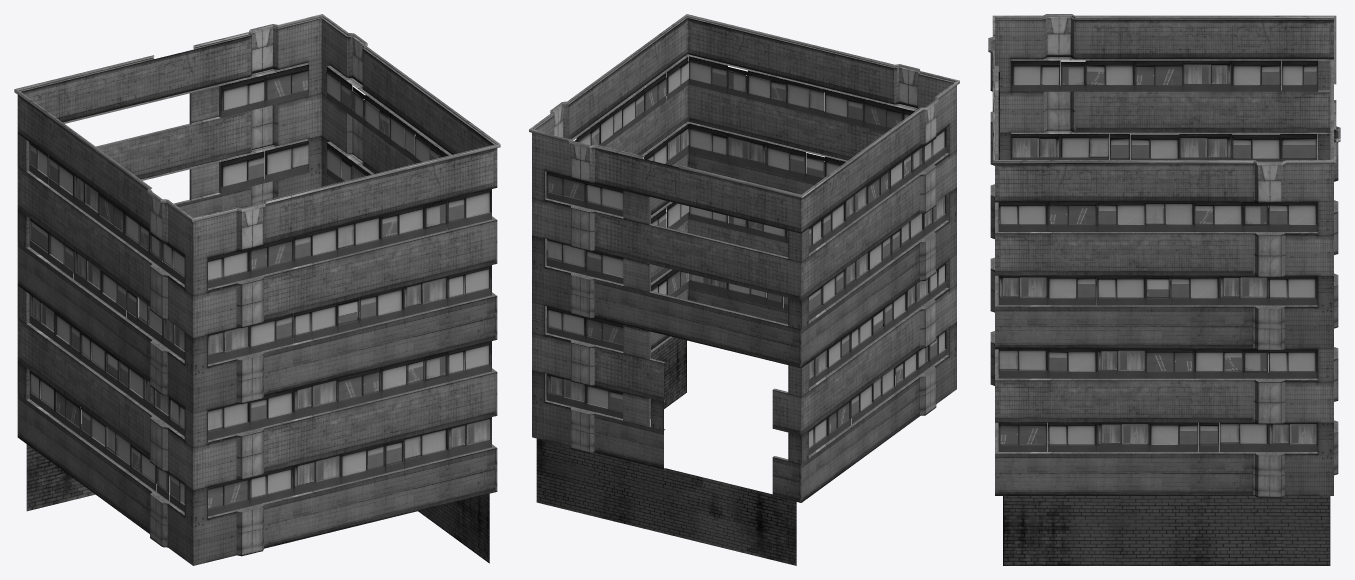
The model's file is alley_building_1.fbx.
3 views of the same model, side by side, from view 1: azimuth 30°, elevation 25°; view 2: azimuth 150°, elevation 25°; view 3: azimuth 270°, elevation 25° (orthographic). The views are drawn at different scales.
Visible parts, largest first — view 1: alley_building_1; view 2: alley_building_1; view 3: alley_building_1.
Part boxes in pixels (box(x1,y1,x2,y2)): alley_building_1: box(14, 14, 500, 565); alley_building_1: box(529, 14, 959, 565); alley_building_1: box(988, 14, 1340, 565).
Size of the model in its own units: 1355 by 1731 by 1355.
